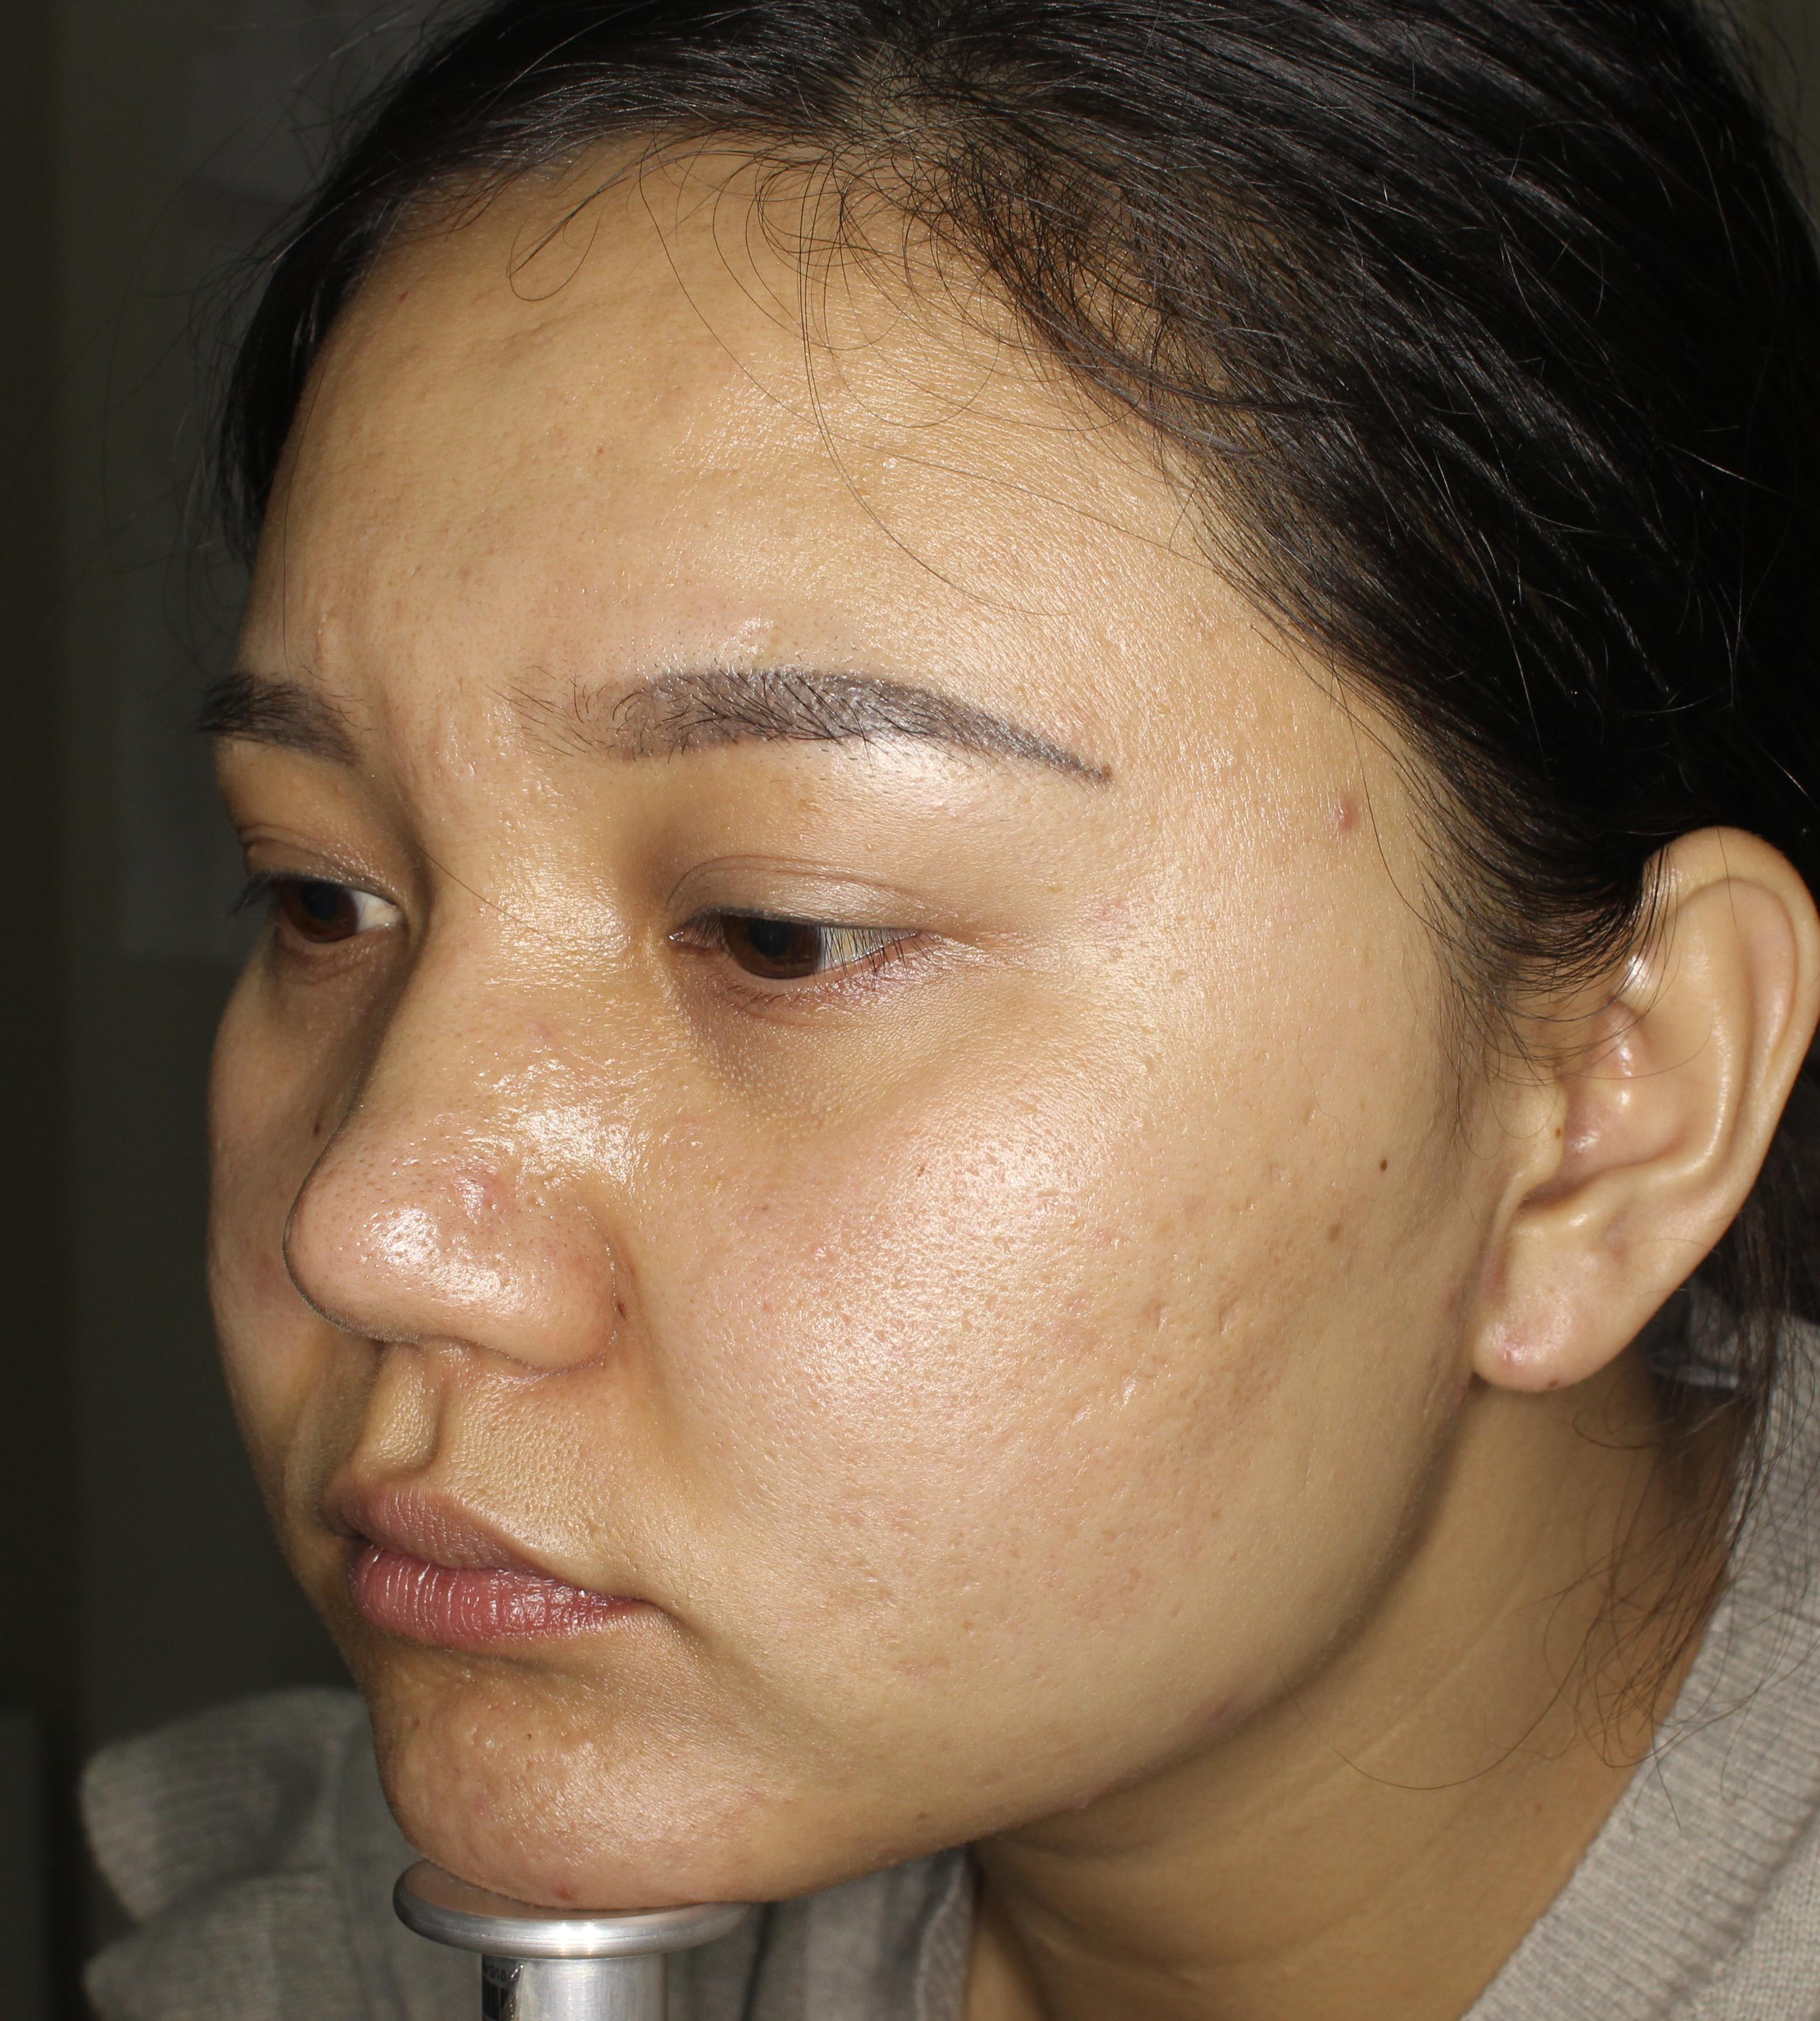fore: (1300, 783, 1372, 873)
